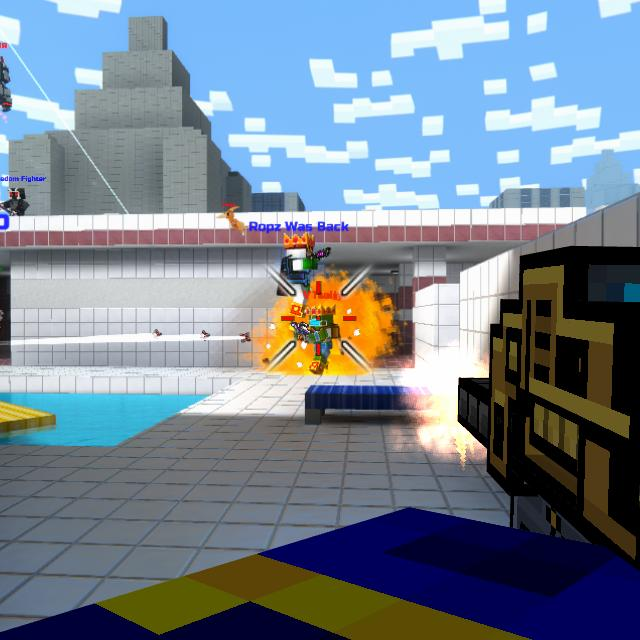Enemy: (294, 304, 339, 375)
